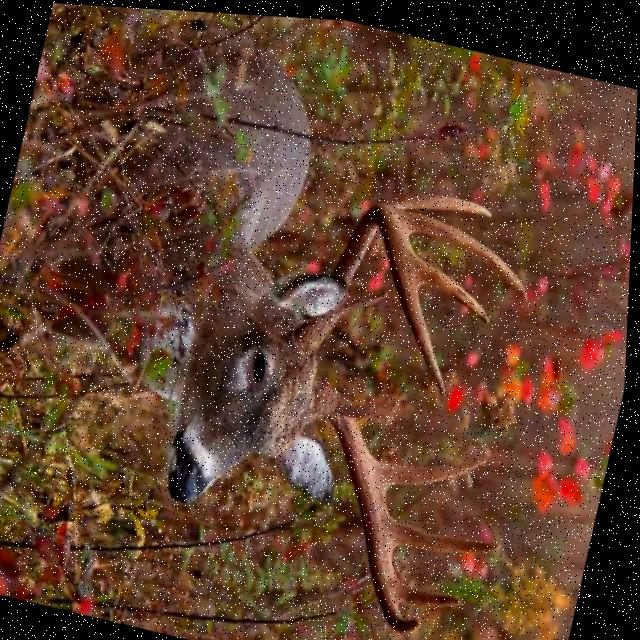L-F: (307, 384, 426, 628)
L-G1: (331, 384, 392, 413)
L-G2: (379, 451, 491, 485)
L-G3: (392, 508, 506, 546)
L-G4: (400, 569, 466, 601)
R-F: (294, 197, 448, 391)
R-G1: (344, 283, 392, 311)
R-G2: (383, 187, 493, 211)
R-G3: (398, 204, 530, 296)
R-G4: (413, 244, 491, 316)
